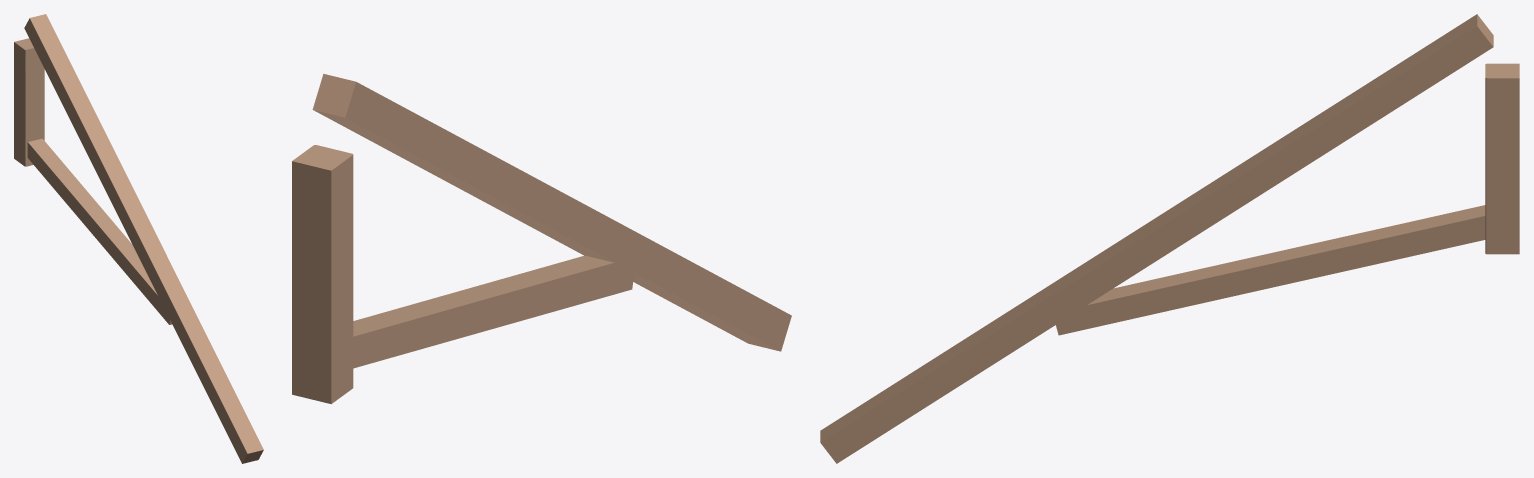
The model's file is eave_bracket_back.glb.
The picture shows the model from 3 angles, left to right: view 1: azimuth 30°, elevation 25°; view 2: azimuth 150°, elevation 25°; view 3: azimuth 270°, elevation 25°; orthographic projection. The views are drawn at different scales.
Visible parts, largest first — view 1: eave_bracket_back_wood; view 2: eave_bracket_back_wood; view 3: eave_bracket_back_wood.
Part boxes in pixels (box(x1,y1,x2,y2)): eave_bracket_back_wood: box(14, 14, 263, 463); eave_bracket_back_wood: box(292, 73, 791, 404); eave_bracket_back_wood: box(820, 14, 1519, 463).
Bounding box in the file's own units: 0.12 × 1.69 × 2.45.
